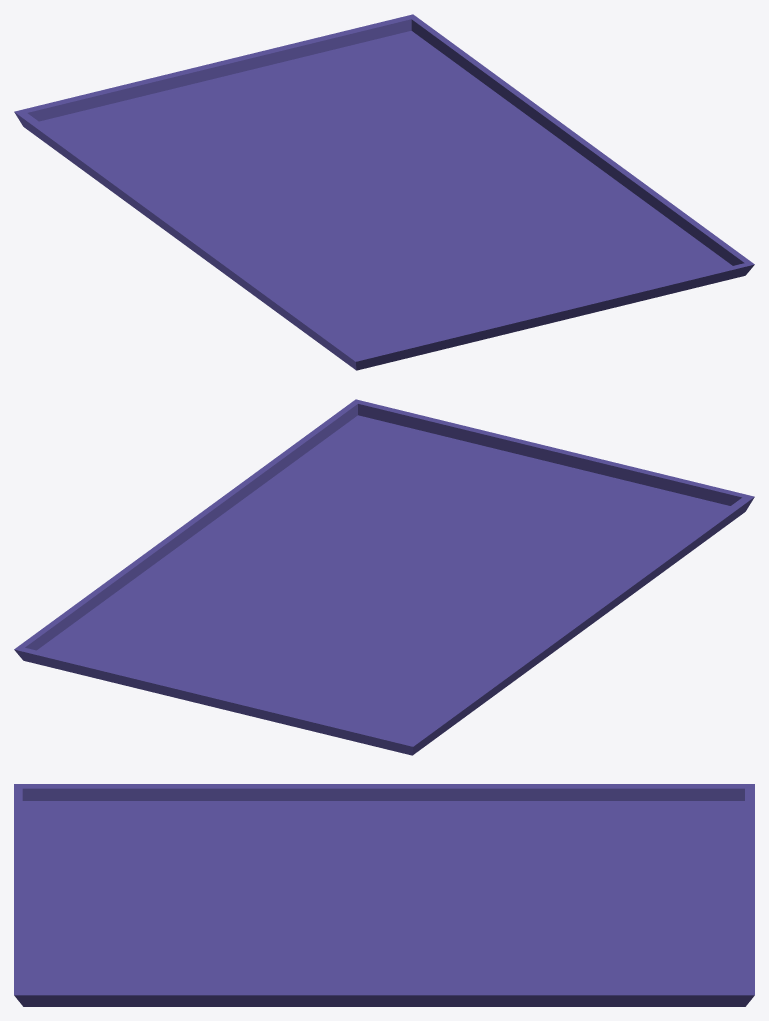
The model's file is Plateau_Bleu.fbx.
3 views of the same model, one above another, from view 1: azimuth 30°, elevation 25°; view 2: azimuth 150°, elevation 25°; view 3: azimuth 270°, elevation 25° (orthographic). The views are drawn at different scales.
Visible parts, largest first — view 1: Plateau_Bleu; view 2: Plateau_Bleu; view 3: Plateau_Bleu.
Part boxes in pixels (x1,y1,x2,y2): Plateau_Bleu: (14,14,754,370); Plateau_Bleu: (14,399,754,755); Plateau_Bleu: (14,784,754,1006).
Size of the model in its own units: 1.9 by 0.0599 by 2.82.
